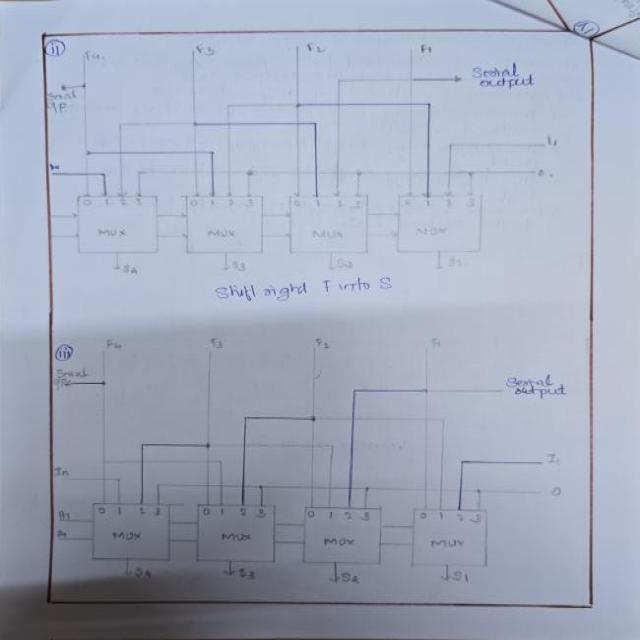Figure Detection - v3 Dataset Version2: (47, 329, 597, 603), (36, 26, 575, 304)
